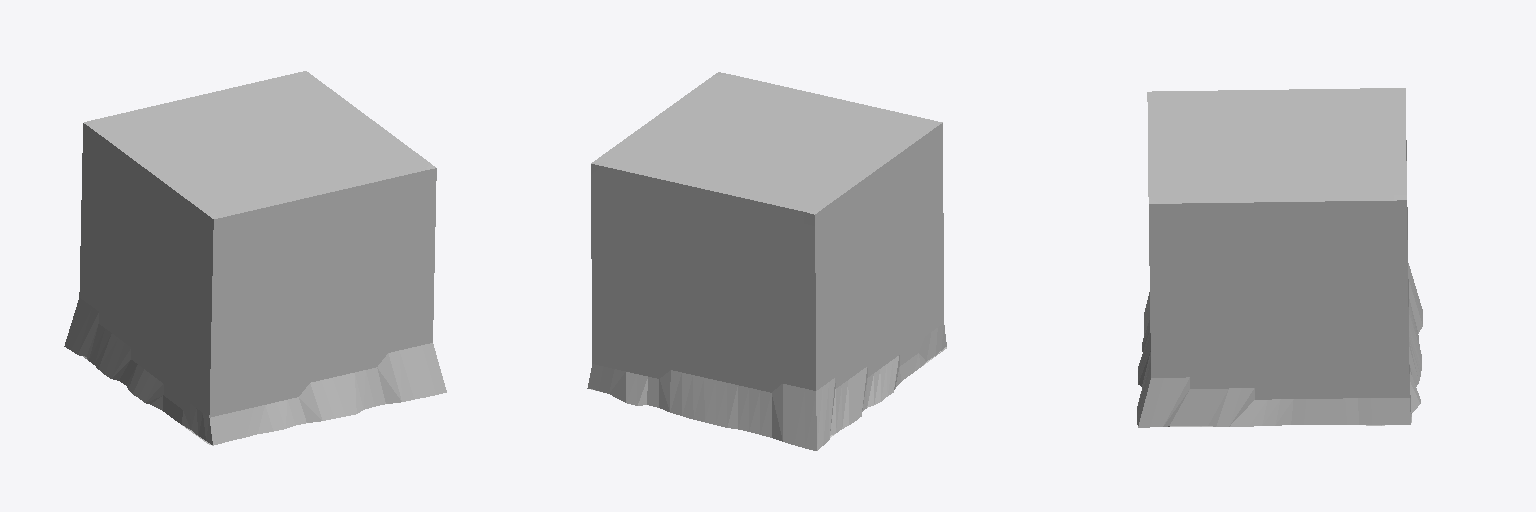
File: mod0073.obj
3 renders of one model, left to right at view 1: azimuth 30°, elevation 25°; view 2: azimuth 150°, elevation 25°; view 3: azimuth 270°, elevation 25°, orthographic.
Parts seen in each view (by area): view 1: Box001; view 2: Box001; view 3: Box001.
Boxes of the visible parts, box(x1,y1,x2,y2) form: Box001: box(64, 71, 446, 445); Box001: box(587, 72, 946, 450); Box001: box(1137, 88, 1422, 427).
Bounding box in the file's own units: 0.5799 × 0.5267 × 0.5979.